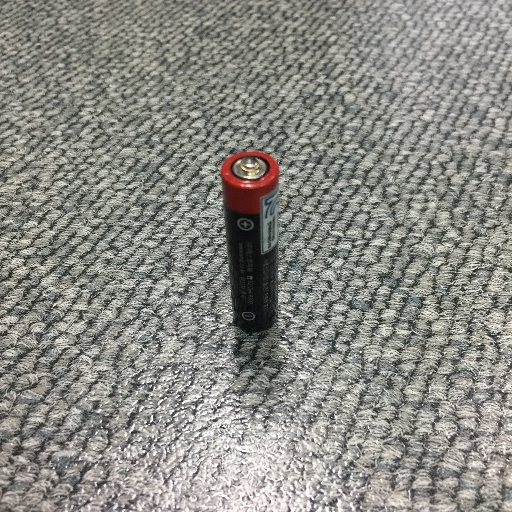Battery_0: (216, 147, 289, 338)
